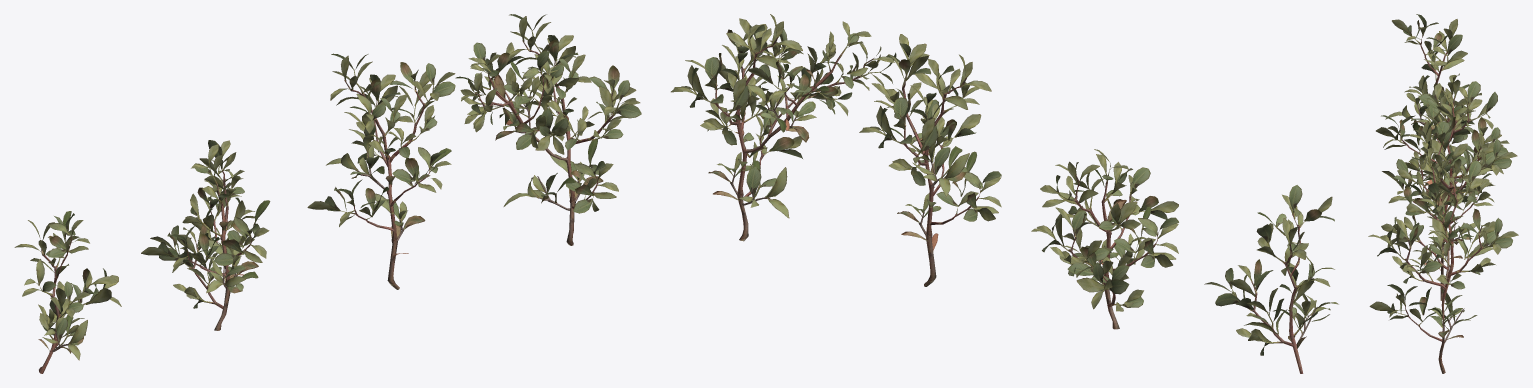
The model's file is shrub_04.glb.
The picture shows the model from 3 angles, left to right: view 1: azimuth 30°, elevation 25°; view 2: azimuth 150°, elevation 25°; view 3: azimuth 270°, elevation 25°; orthographic projection. The views are drawn at different scales.
Visible parts, largest first — view 1: shrub_04; view 2: shrub_04; view 3: shrub_04.
Part boxes in pixels (left/top/right/bottom): shrub_04: left=14, top=14, right=641, bottom=373; shrub_04: left=671, top=14, right=1338, bottom=373; shrub_04: left=1368, top=14, right=1518, bottom=373.
Size of the model in its own units: 0.5837 by 0.2192 by 0.1461.
1 material, 1 textured.
